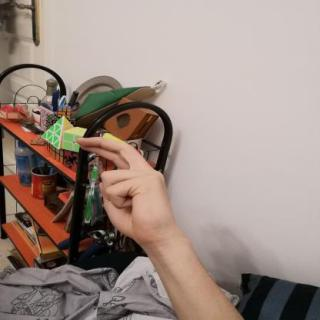ZAY: (68, 132, 180, 248)
